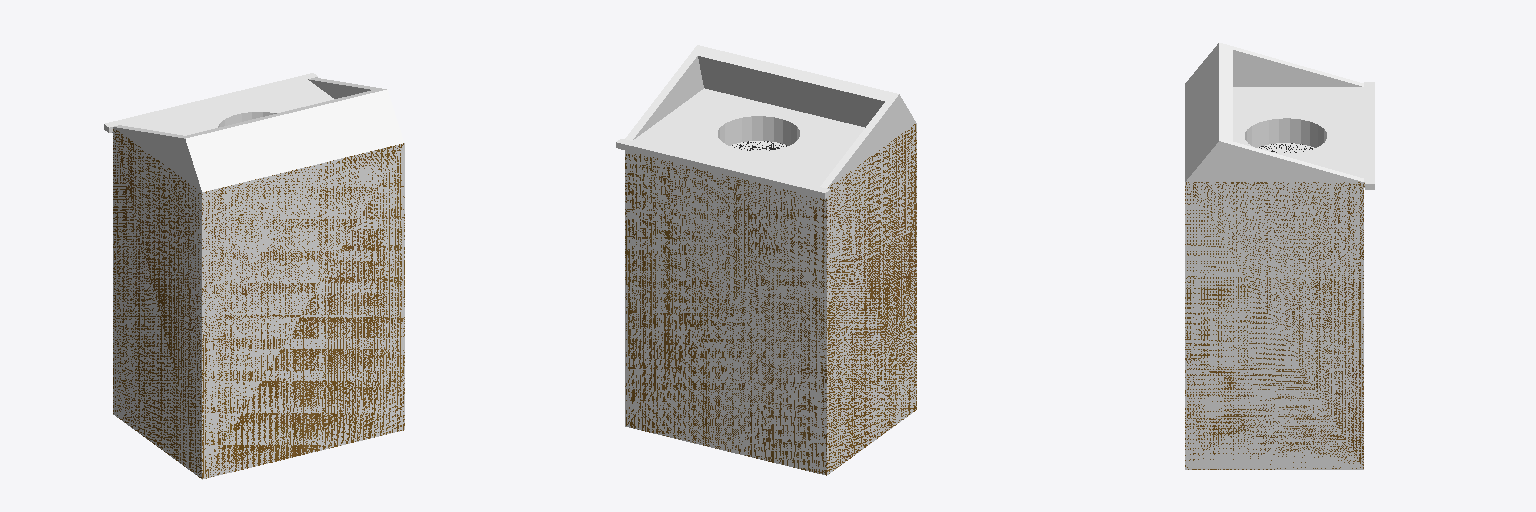
The picture shows the model from 3 angles: view 1: azimuth 30°, elevation 25°; view 2: azimuth 150°, elevation 25°; view 3: azimuth 270°, elevation 25°; orthographic projection.
Parts seen in each view (by area): view 1: mesh1_mesh1-geometry; view 2: mesh1_mesh1-geometry; view 3: mesh1_mesh1-geometry.
Boxes of the visible parts, box(x1,y1,x2,y2) form: mesh1_mesh1-geometry: box(104, 73, 404, 479); mesh1_mesh1-geometry: box(616, 45, 916, 475); mesh1_mesh1-geometry: box(1185, 43, 1374, 469).
Size of the model in its own units: 0.5089 by 0.7626 by 0.3992.
Materials: 6 (2 with a texture image).